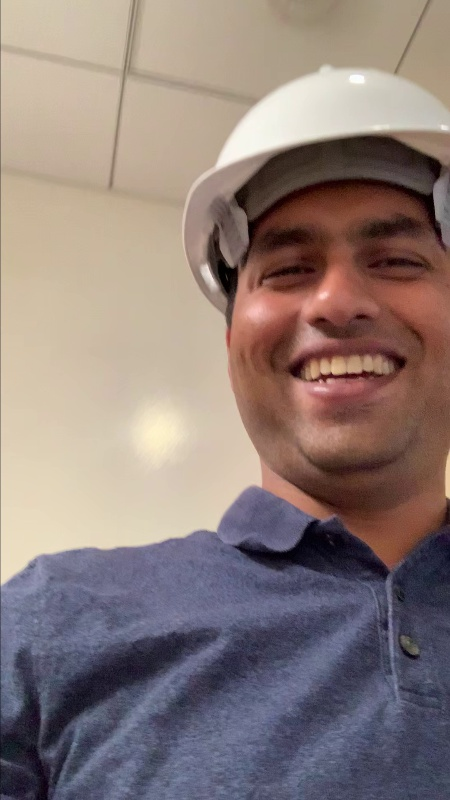helmet: (181, 65, 450, 226)
